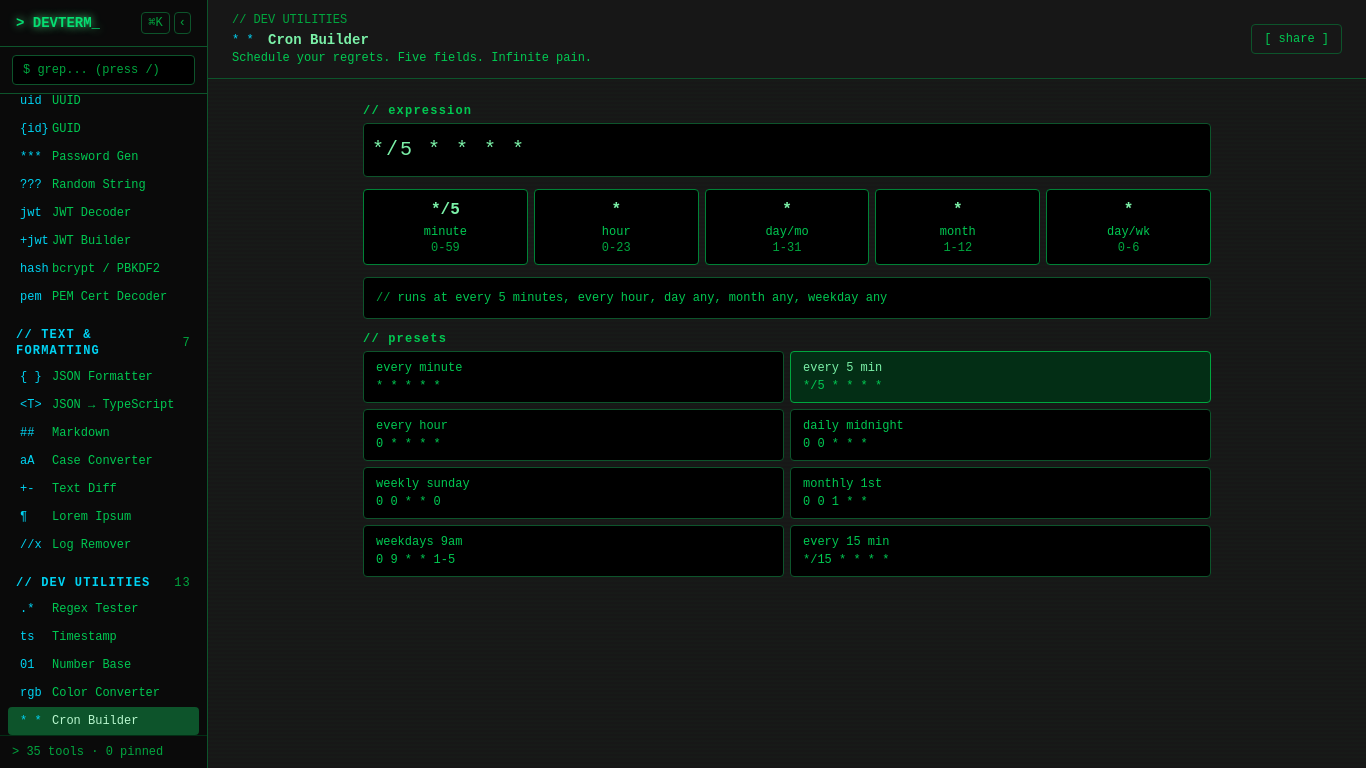
Test: Cron Builder › clicking a preset fills the expression
(page scrolled)
Expected: the element that starts with "expression" is shown, [363,103,1211,577]
Click the button "every minute * * * * *" at (419,368), box [363,351,784,403]
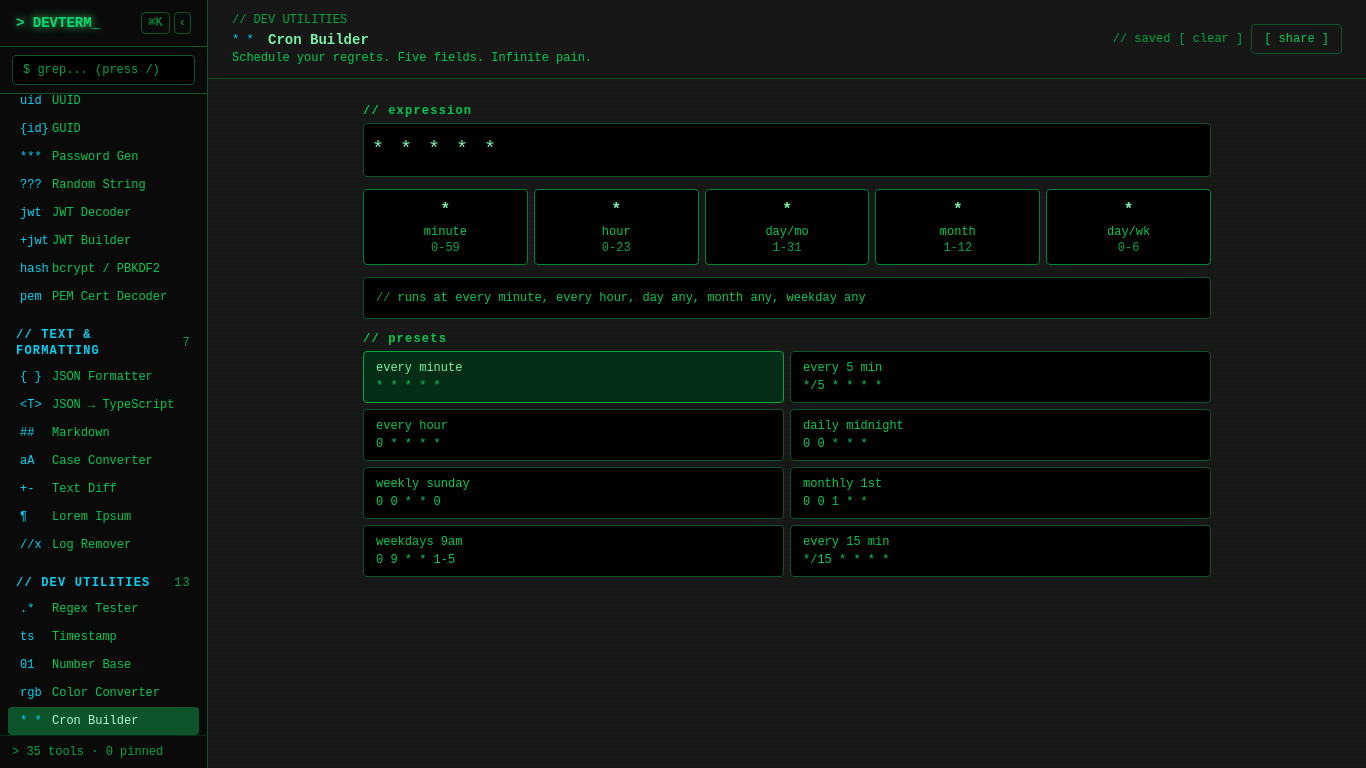
Result: the 2nd field holds "* * * * *" at [363,123,1211,177]
